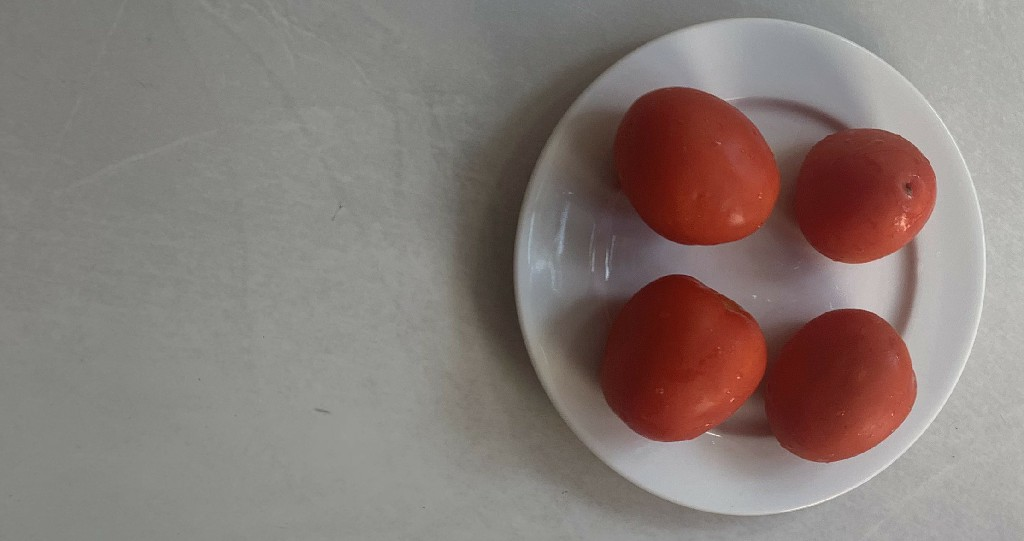OK: (606, 76, 781, 257), (598, 266, 770, 449), (761, 302, 921, 468), (793, 124, 941, 267)
